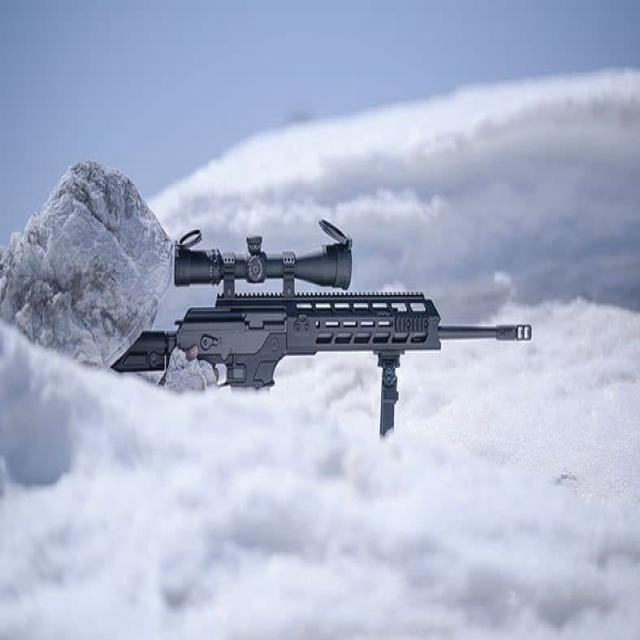Rifle: (111, 221, 534, 390)
